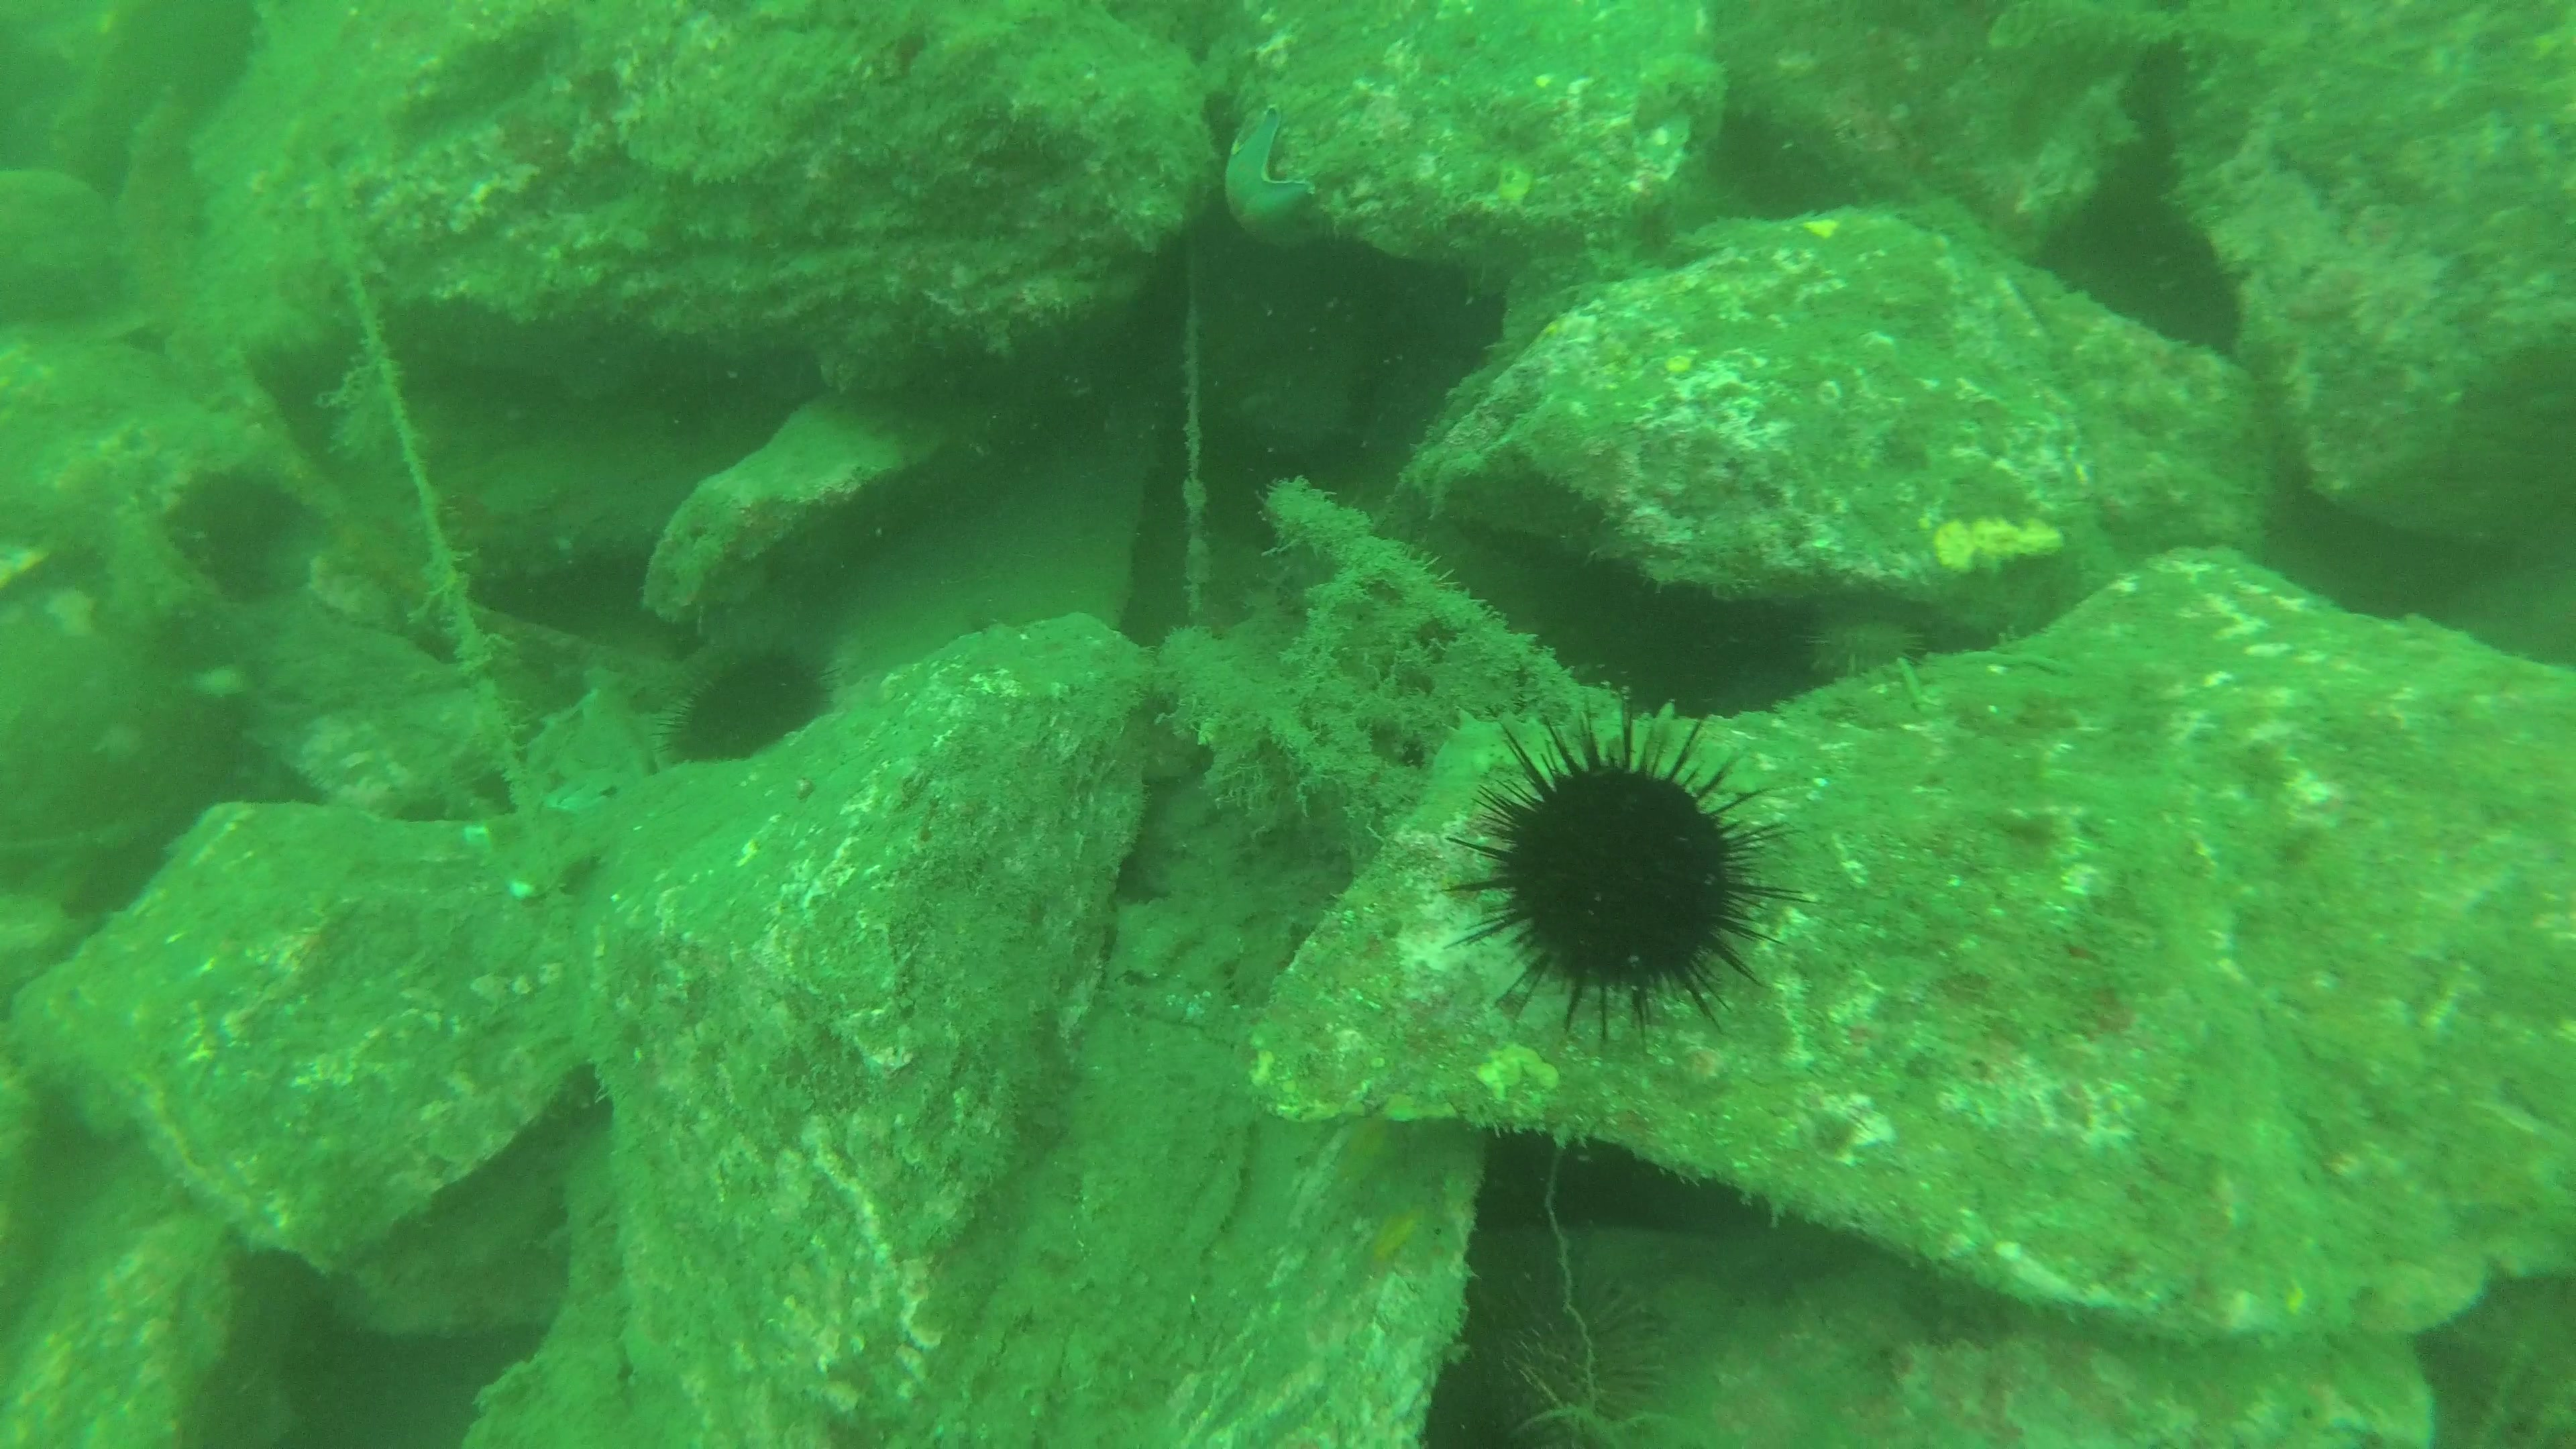echinus: (1435, 697, 1806, 1056), (1387, 1231, 1683, 1449), (665, 644, 847, 805)
starfish: (1226, 103, 1332, 253)
